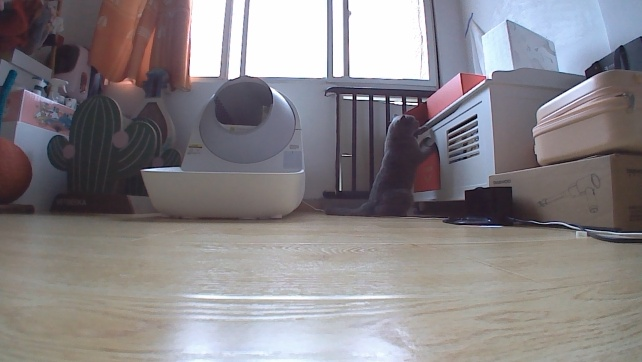cat: (325, 109, 437, 218)
charger: (437, 184, 514, 227)
wire: (509, 217, 641, 244), (300, 199, 324, 214)
